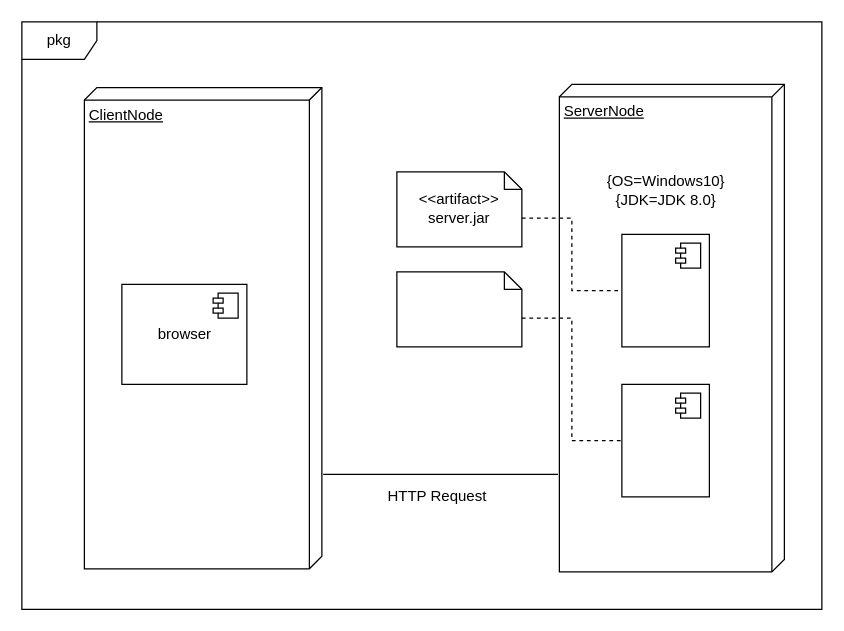
The diagram is 844 pixels wide and 631 high, and some of its shapes have lost their labels. Here are the shapes that lost their labels. From the top down, the centre of each, then its label:
At pixel 459 309: "<<artifact>> HTML+CSS+JS".
At pixel 665 290: "Assets Server".
At pixel 665 440: "Backend Server".
